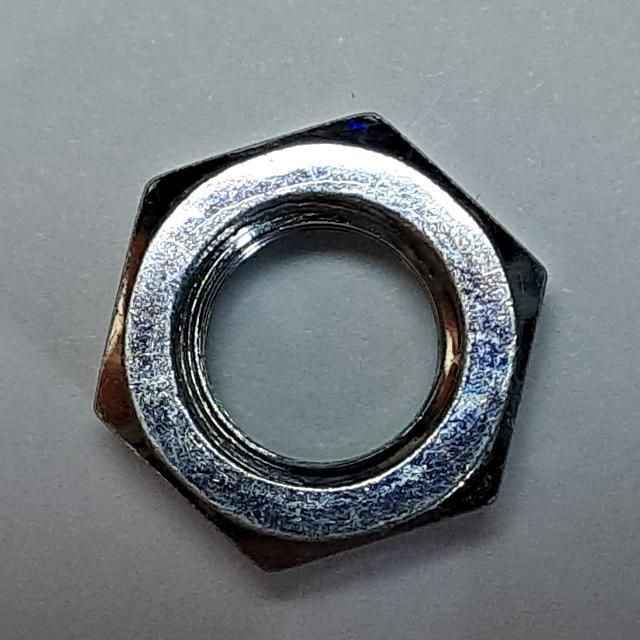Excellent: (53, 79, 562, 597)
